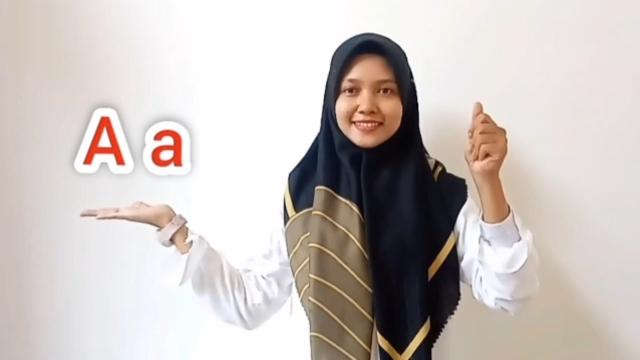A: (460, 102, 510, 184)
